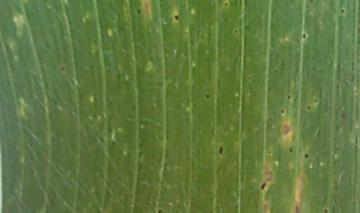tarspot: (258, 180, 270, 191), (218, 143, 225, 159), (303, 103, 313, 112), (170, 14, 181, 21), (136, 8, 144, 16), (300, 32, 307, 41), (338, 6, 345, 15), (222, 1, 230, 8), (321, 207, 330, 213), (280, 108, 287, 115), (312, 97, 319, 104), (303, 152, 310, 159), (286, 146, 294, 152), (233, 28, 239, 35), (204, 93, 211, 99), (157, 207, 163, 213), (286, 94, 293, 99), (59, 67, 67, 71)
